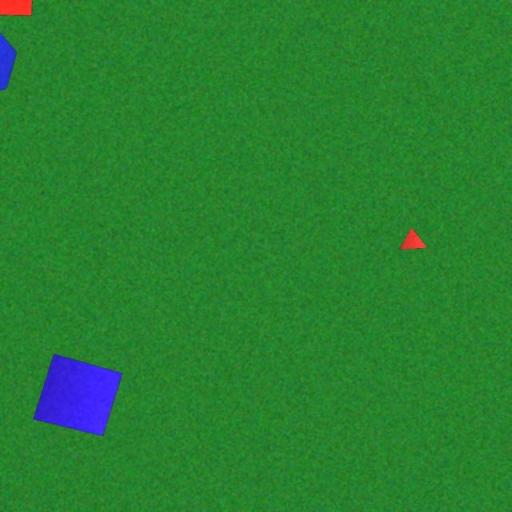BLUE_SQUARE: (33, 353, 124, 437)
